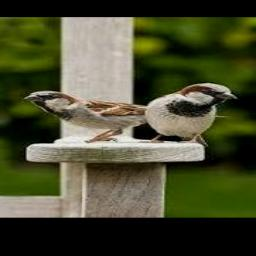Sparrow: (21, 90, 226, 142), (139, 82, 238, 142)
